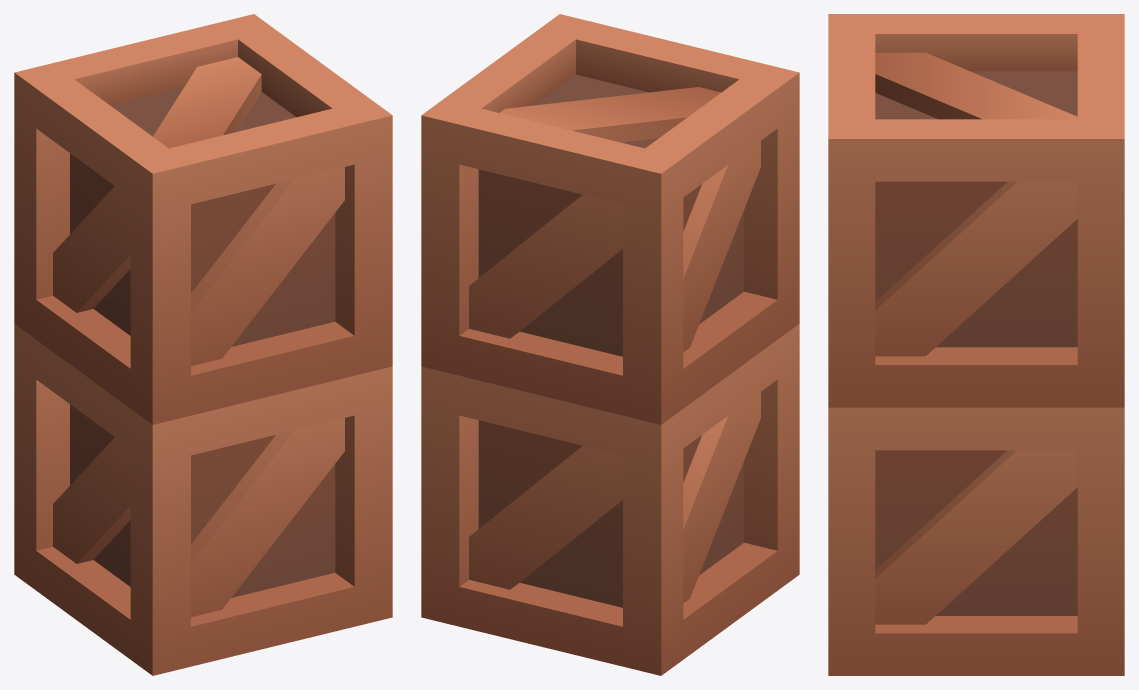
The model's file is 2crate.fbx.
3 views of the same model, side by side, from view 1: azimuth 30°, elevation 25°; view 2: azimuth 150°, elevation 25°; view 3: azimuth 270°, elevation 25° (orthographic). The views are drawn at different scales.
Parts seen in each view (by area): view 1: crate__1_, crate; view 2: crate__1_, crate; view 3: crate__1_, crate.
Part boxes in pixels (x1,y1,x2,y2): crate__1_: (14, 14, 392, 424); crate: (14, 324, 392, 675); crate__1_: (421, 14, 799, 424); crate: (421, 324, 799, 675); crate__1_: (828, 14, 1124, 407); crate: (828, 407, 1124, 675).
Size of the model in its own units: 50 by 100 by 50.
1 material, 1 textured.
